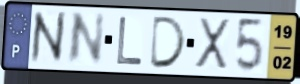5: (233, 16, 268, 76)
D: (148, 15, 189, 70)
L: (114, 15, 145, 67)
N: (64, 11, 107, 67), (29, 9, 67, 66)
X: (193, 16, 232, 73)
